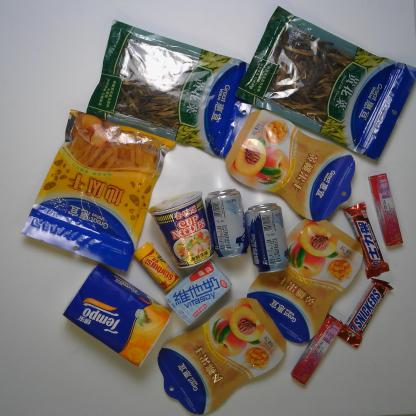Alcohol: (243, 202, 289, 275), (204, 188, 250, 260)
Candy: (291, 316, 342, 385), (364, 174, 402, 247), (134, 242, 180, 292)
Chocolate: (337, 280, 395, 348), (344, 201, 390, 280)
Dried Food: (234, 6, 416, 162), (86, 19, 250, 156)
Dried Fruit: (21, 108, 176, 274), (157, 295, 287, 416), (224, 108, 357, 223), (246, 217, 364, 344)
Instant Noodles: (147, 190, 214, 271)
Milk: (165, 260, 232, 328)
Tissue: (62, 265, 173, 368)
